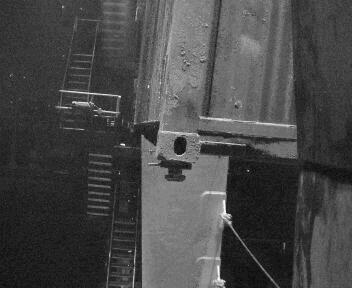twist_lock_1: (131, 157, 173, 188)
